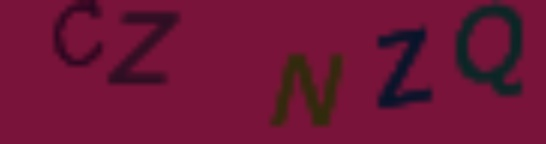C: (49, 1, 109, 71)
N: (265, 46, 347, 130)
Q: (453, 1, 532, 98)
Z: (105, 10, 189, 87), (369, 26, 435, 111)
